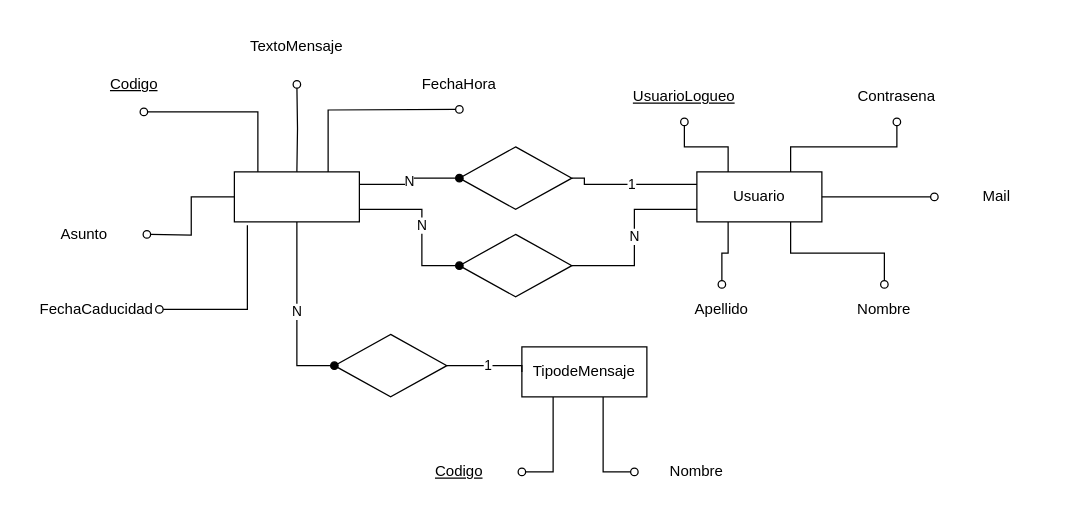
This 1080x518 diagram has some shape labels left out. Here are the shapes that lost their labels. From the top down, the centre of each, then its label:
(x=296, y=196): Mensaje
(x=515, y=177): Envia
(x=515, y=265): Reciben
(x=390, y=365): Tiene
